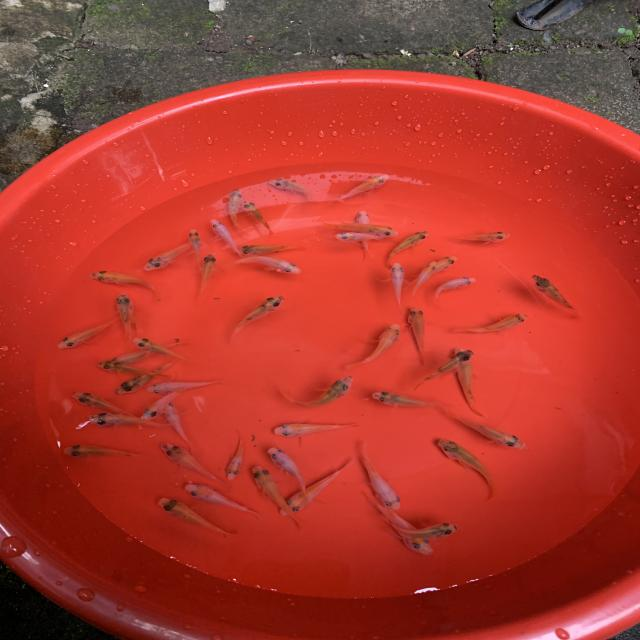nila: (425, 435, 500, 502), (278, 455, 354, 520), (431, 401, 528, 450), (152, 494, 244, 544), (365, 497, 439, 558), (247, 463, 311, 533), (352, 436, 404, 510), (338, 317, 404, 371), (227, 290, 288, 344), (272, 370, 354, 409), (180, 481, 264, 518), (155, 440, 224, 484), (409, 348, 478, 391), (86, 264, 164, 302), (264, 444, 318, 497), (115, 357, 181, 398), (528, 271, 582, 319), (68, 387, 142, 421), (267, 417, 363, 442), (454, 345, 487, 415), (378, 514, 464, 540), (105, 338, 187, 365), (330, 170, 390, 206), (404, 253, 462, 290), (52, 318, 116, 350), (84, 409, 186, 429), (444, 312, 536, 334), (143, 238, 199, 274), (138, 385, 184, 428), (370, 387, 440, 415), (383, 229, 430, 270), (206, 217, 248, 262), (134, 335, 193, 364), (59, 442, 148, 461), (89, 359, 173, 379), (233, 255, 308, 277), (408, 302, 432, 368), (162, 399, 194, 448), (267, 176, 315, 207), (237, 236, 304, 258), (242, 199, 280, 237), (430, 275, 480, 303), (142, 379, 220, 395), (114, 289, 137, 342), (388, 258, 409, 316), (324, 221, 400, 237), (222, 431, 245, 481), (408, 260, 435, 301), (194, 253, 220, 295), (446, 228, 518, 243), (226, 185, 248, 232), (187, 229, 210, 271), (358, 210, 376, 259), (330, 232, 388, 242)
